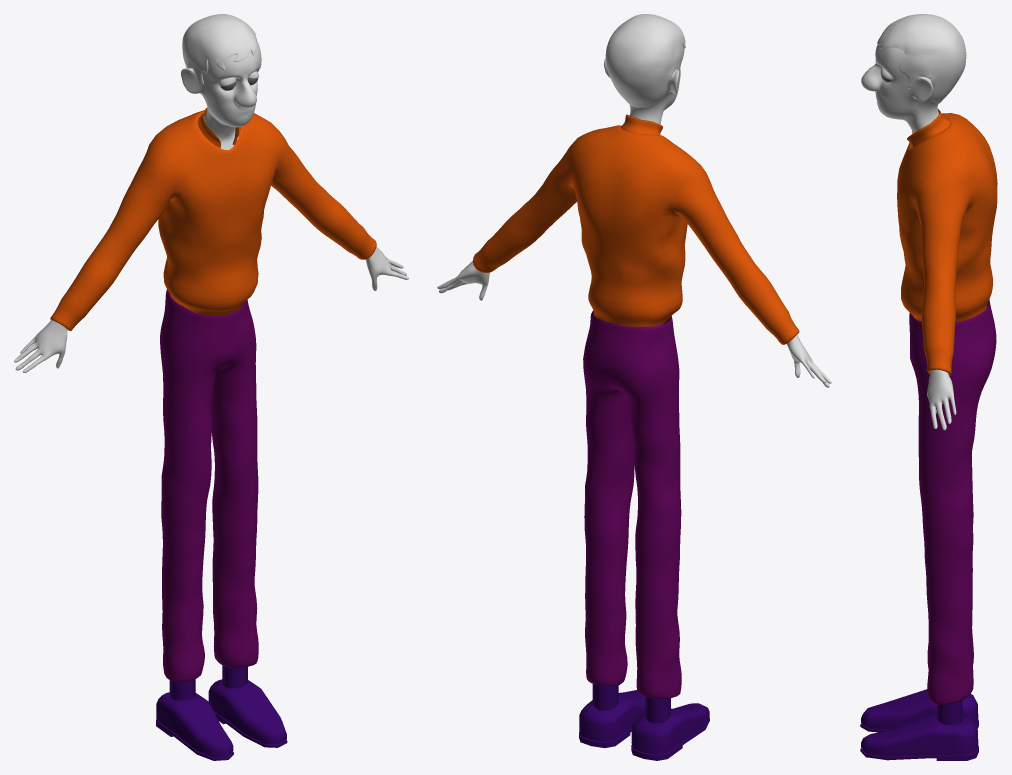
Rendered from seiflow.fbx.
3 renders of one model, left to right at view 1: azimuth 30°, elevation 25°; view 2: azimuth 150°, elevation 25°; view 3: azimuth 270°, elevation 25°, orthographic.
Visible parts, largest first — view 1: outfit_low, head_hand_low, hair_low; view 2: outfit_low, hair_low, head_hand_low; view 3: outfit_low, head_hand_low, hair_low.
Boxes of the visible parts, <box> form: outfit_low: <box>50,78,376,760</box>; head_hand_low: <box>14,42,408,372</box>; hair_low: <box>182,14,258,84</box>; outfit_low: <box>473,114,799,760</box>; hair_low: <box>605,14,685,107</box>; head_hand_low: <box>437,48,831,387</box>; outfit_low: <box>860,74,997,760</box>; head_hand_low: <box>861,44,956,430</box>; hair_low: <box>877,14,966,103</box>.
Size of the model in its own units: 7.41 by 12.92 by 2.23.
